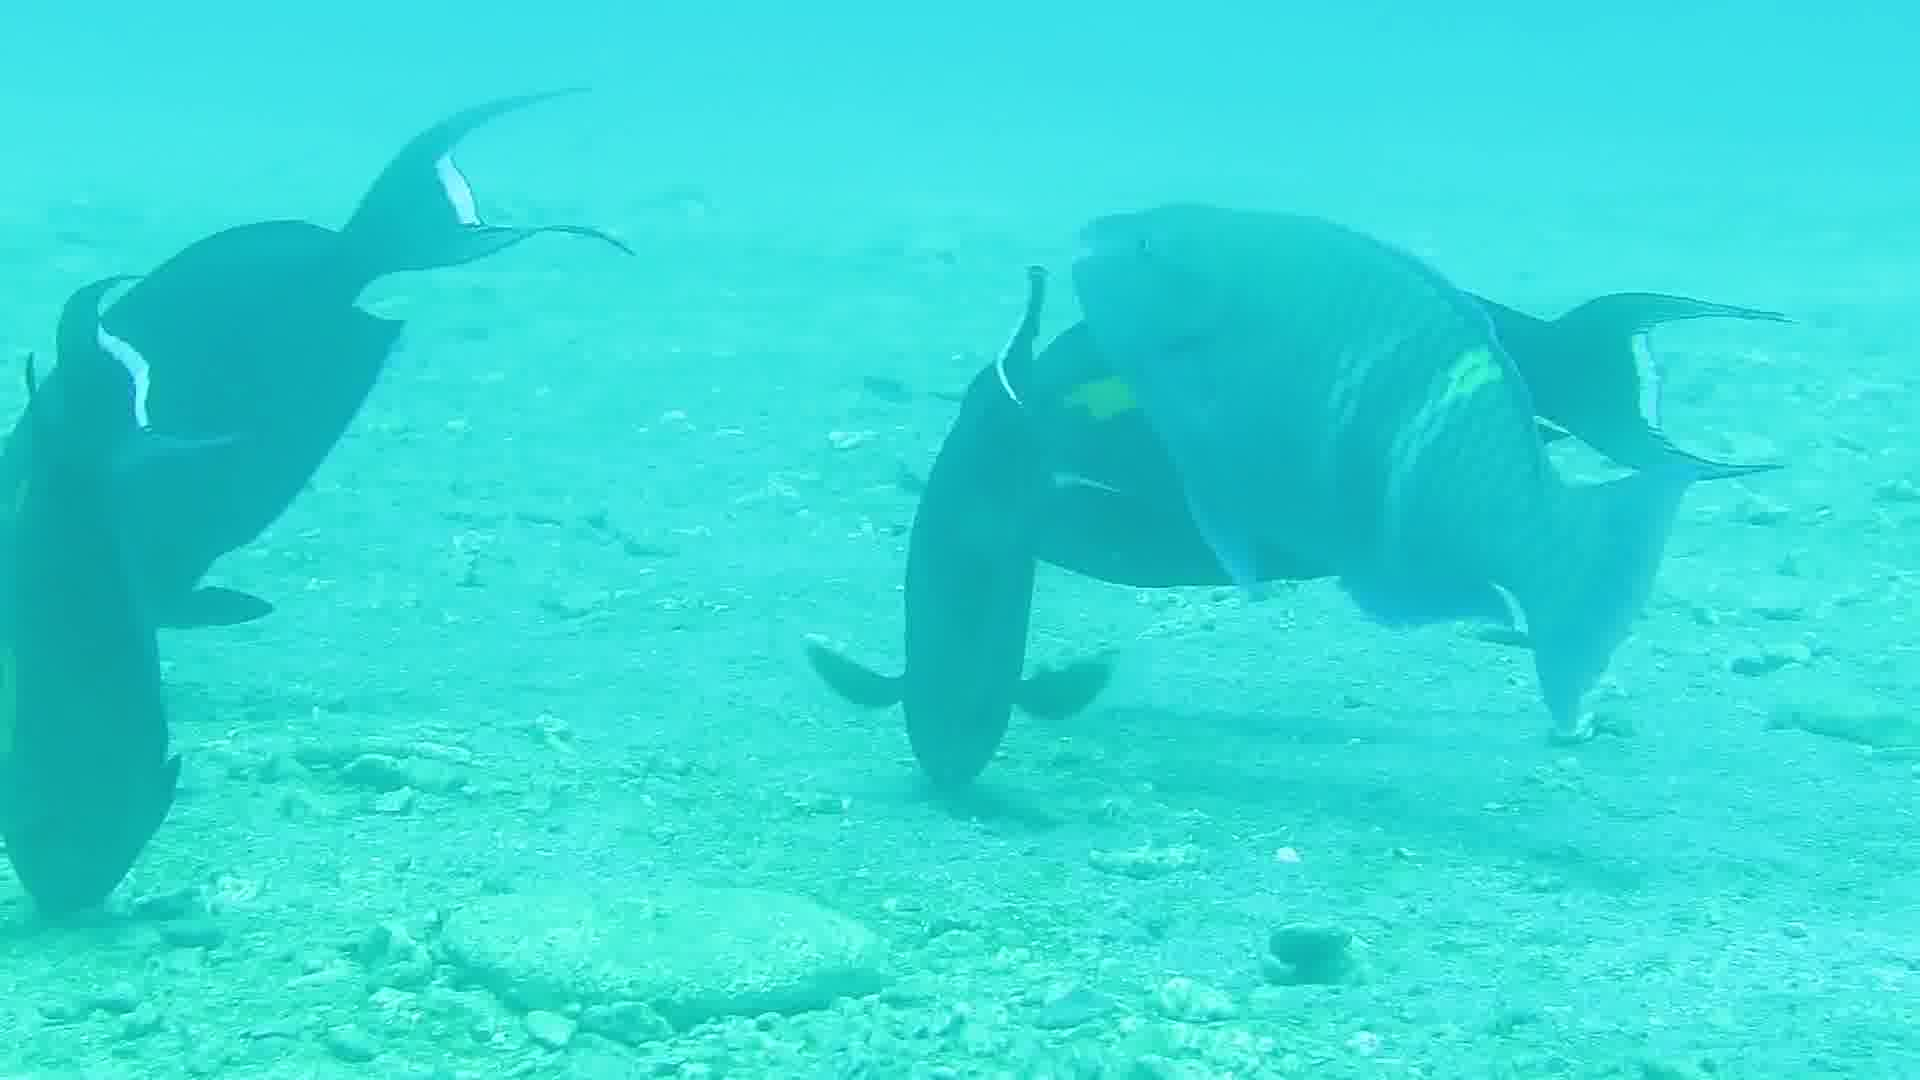Acanthurus olivaceus: (1063, 158, 1739, 721), (32, 183, 604, 567), (866, 243, 1058, 858), (1, 281, 191, 897)
